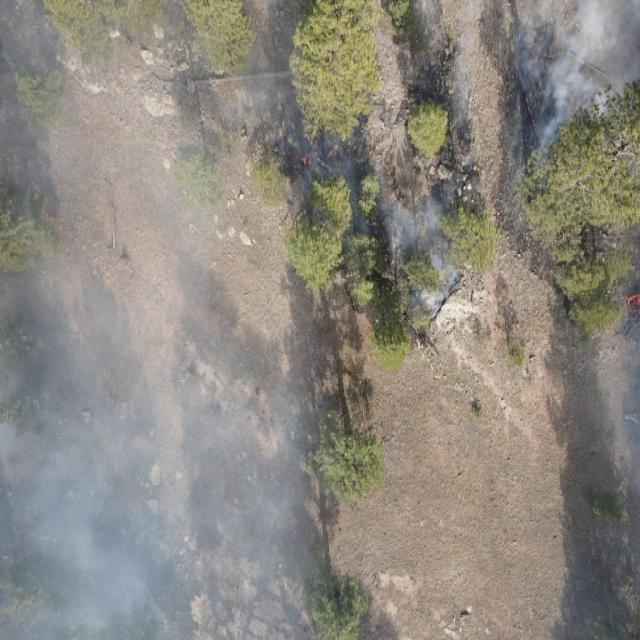fire: (624, 293, 640, 315), (299, 151, 316, 170)
smoke: (0, 0, 347, 640), (447, 0, 640, 175), (347, 174, 485, 314), (585, 278, 640, 482)
